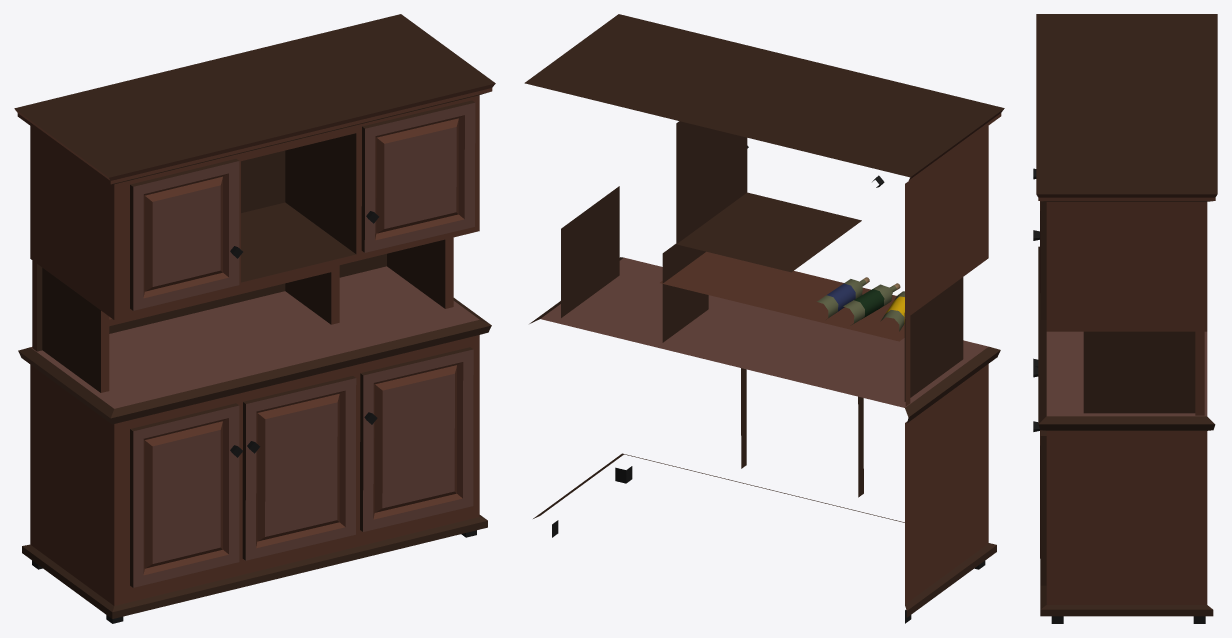
File: ChurchLargeCloset.glb
3 renders of one model, left to right at view 1: azimuth 30°, elevation 25°; view 2: azimuth 150°, elevation 25°; view 3: azimuth 270°, elevation 25°, orthographic. The views are drawn at different scales.
Visible parts, largest first — view 1: ChurchCloset2; view 2: ChurchCloset2; view 3: ChurchCloset2.
Part boxes in pixels (x1,y1,x2,y2): ChurchCloset2: (14,14,495,623); ChurchCloset2: (524,14,1004,623); ChurchCloset2: (1033,14,1217,623).
Bounding box in the file's own units: 1.72 × 1.93 × 0.7409.
1 material, 1 textured.
